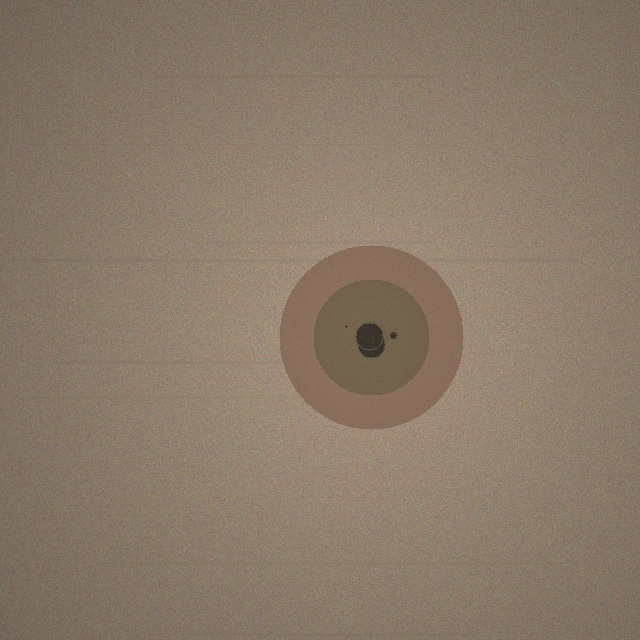shrinkage: (279, 245, 463, 429)
